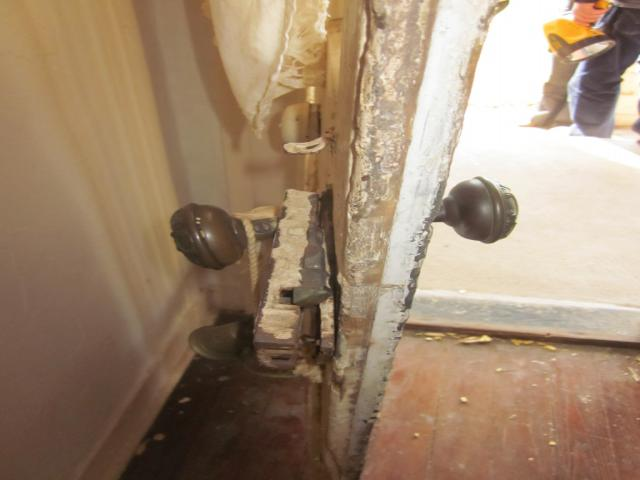Door-handle: (158, 200, 287, 272), (423, 175, 525, 247)
